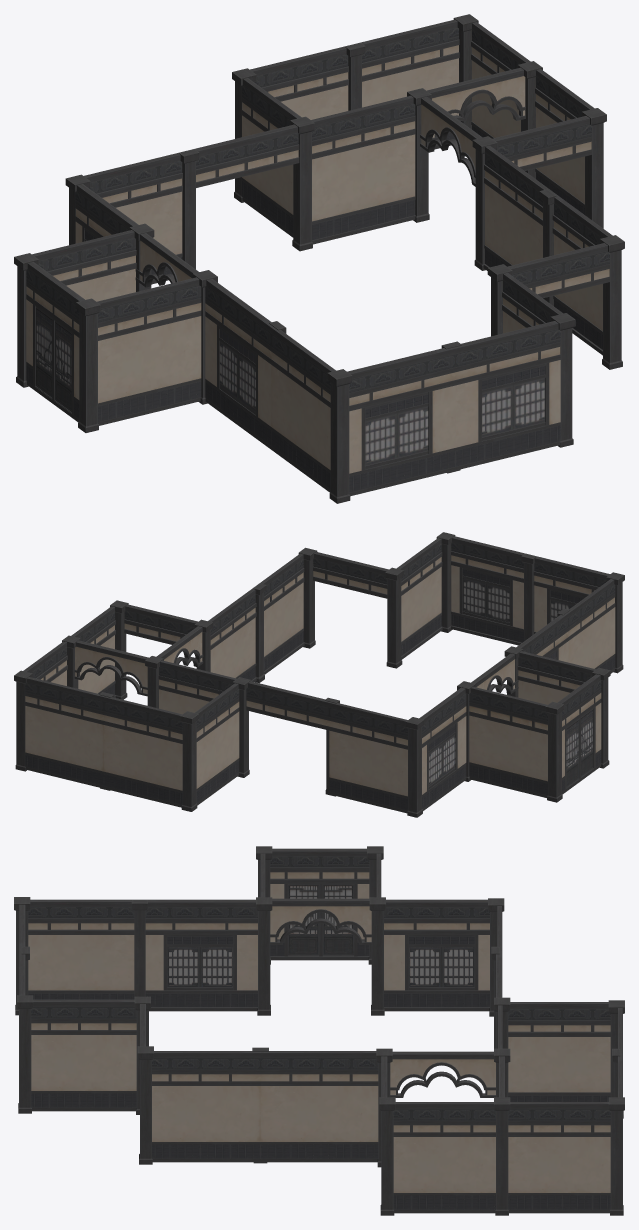
File: Homeworld_Interior_Dq_Room_K_Wall_01_Vo.fbx
3 renders of one model, top to bottom at view 1: azimuth 30°, elevation 25°; view 2: azimuth 150°, elevation 25°; view 3: azimuth 270°, elevation 25°, orthographic. The views are drawn at different scales.
Parts seen in each view (by area): view 1: Homeworld_Interior_Dq_Room_Wall_01_Vo (×13), Homeworld_Interior_Dq_Room_Wall_02_Vo (×4), Homeworld_Interior_Dq_Room_Pillar_01_Vo (×14), Homeworld_Interior_Dq_Room_Wall_04_Vo (×3), Homeworld_Interior_Dq_Room_K_Filling_01_Vo, Homeworld_Interior_Dq_Room_Wall_03_Vo (×3), Homeworld_Interior_Dq_Room_Wall_07_Vo, Homeworld_Interior_Dq_Room_Pillar_02_Vo (×3); view 2: Homeworld_Interior_Dq_Room_Wall_01_Vo (×13), Homeworld_Interior_Dq_Room_Wall_02_Vo (×4), Homeworld_Interior_Dq_Room_Pillar_01_Vo (×15), Homeworld_Interior_Dq_Room_Wall_04_Vo (×3), Homeworld_Interior_Dq_Room_Wall_03_Vo (×3), Homeworld_Interior_Dq_Room_Wall_07_Vo, Homeworld_Interior_Dq_Room_K_Filling_01_Vo, Homeworld_Interior_Dq_Room_Pillar_02_Vo (×2); view 3: Homeworld_Interior_Dq_Room_Wall_01_Vo (×7), Homeworld_Interior_Dq_Room_Wall_02_Vo (×2), Homeworld_Interior_Dq_Room_Pillar_01_Vo (×15), Homeworld_Interior_Dq_Room_Wall_07_Vo, Homeworld_Interior_Dq_Room_Wall_03_Vo (×2), Homeworld_Interior_Dq_Room_Pillar_02_Vo.
Boxes of the visible parts, box(x1,y1,x2,y2) form: Homeworld_Interior_Dq_Room_Wall_01_Vo (×13): box(32, 19, 612, 492); Homeworld_Interior_Dq_Room_Wall_02_Vo (×4): box(75, 184, 560, 496); Homeworld_Interior_Dq_Room_Pillar_01_Vo (×14): box(14, 14, 624, 503); Homeworld_Interior_Dq_Room_Wall_04_Vo (×3): box(186, 116, 609, 298); Homeworld_Interior_Dq_Room_K_Filling_01_Vo: box(36, 309, 544, 465); Homeworld_Interior_Dq_Room_Wall_03_Vo (×3): box(135, 67, 525, 287); Homeworld_Interior_Dq_Room_Wall_07_Vo: box(26, 261, 84, 422); Homeworld_Interior_Dq_Room_Pillar_02_Vo (×3): box(179, 43, 556, 305); Homeworld_Interior_Dq_Room_Wall_01_Vo (×13): box(23, 538, 615, 813); Homeworld_Interior_Dq_Room_Wall_02_Vo (×4): box(419, 536, 609, 810); Homeworld_Interior_Dq_Room_Pillar_01_Vo (×15): box(14, 532, 624, 817); Homeworld_Interior_Dq_Room_Wall_04_Vo (×3): box(124, 552, 388, 730); Homeworld_Interior_Dq_Room_Wall_03_Vo (×3): box(74, 626, 518, 696); Homeworld_Interior_Dq_Room_Wall_07_Vo: box(557, 674, 601, 794); Homeworld_Interior_Dq_Room_K_Filling_01_Vo: box(428, 651, 592, 786); Homeworld_Interior_Dq_Room_Pillar_02_Vo (×2): box(254, 554, 535, 683); Homeworld_Interior_Dq_Room_Wall_01_Vo (×7): box(28, 899, 610, 1213); Homeworld_Interior_Dq_Room_Wall_02_Vo (×2): box(140, 899, 489, 1011); Homeworld_Interior_Dq_Room_Pillar_01_Vo (×15): box(14, 846, 624, 1215); Homeworld_Interior_Dq_Room_Wall_07_Vo: box(270, 848, 369, 960); Homeworld_Interior_Dq_Room_Wall_03_Vo (×2): box(270, 898, 495, 1097); Homeworld_Interior_Dq_Room_Pillar_02_Vo: box(131, 900, 147, 999).
Size of what is drawn, in the model's own units: 25.28 by 5.12 by 25.31.
